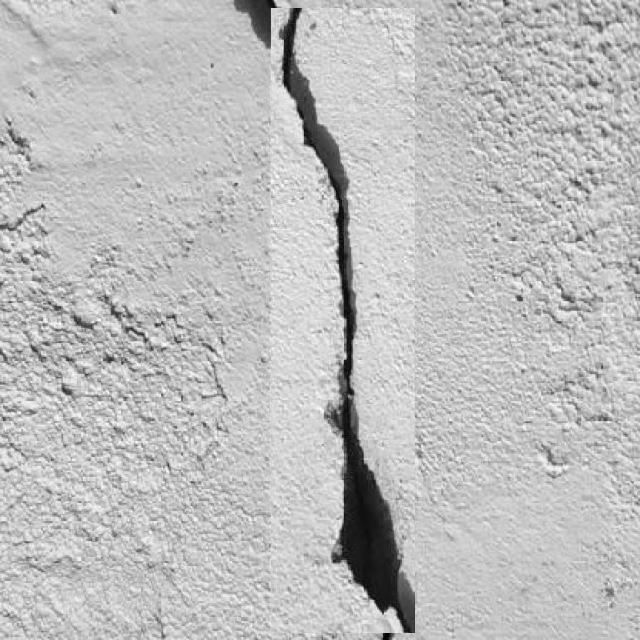vertical crack: (271, 8, 414, 633)
